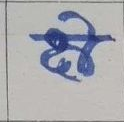i_matra: (72, 11, 99, 76)
